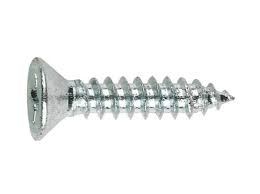TORNILLOS: (21, 43, 241, 148)
